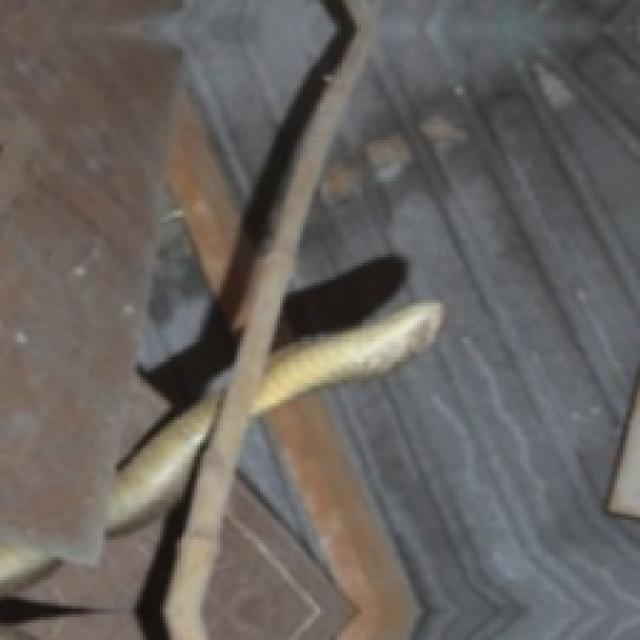king cobra: (251, 300, 443, 637), (251, 300, 443, 414), (106, 394, 217, 531)
